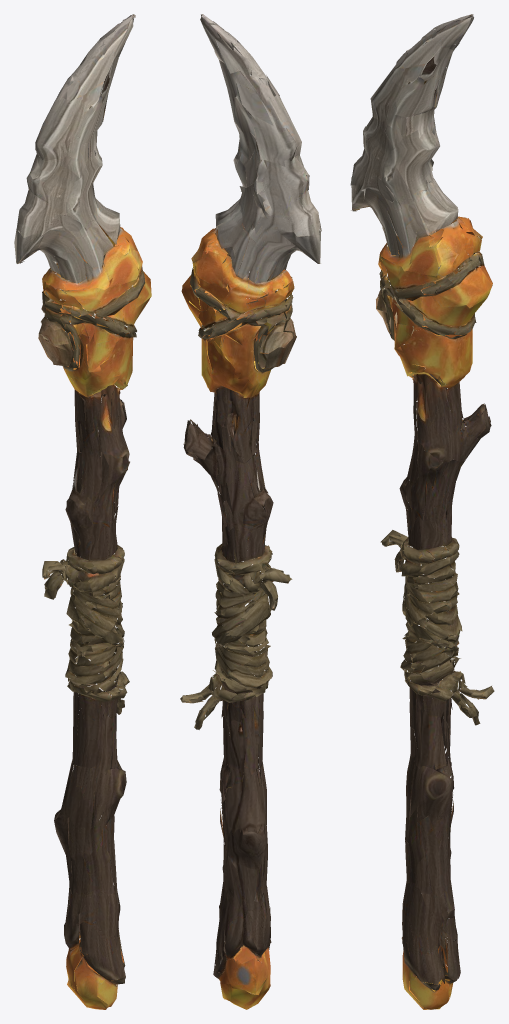
File: mizrak-XcgKBRKP.glb
3 renders of one model, left to right at view 1: azimuth 30°, elevation 25°; view 2: azimuth 150°, elevation 25°; view 3: azimuth 330°, elevation 25°, orthographic.
Parts seen in each view (by area): view 1: prop; view 2: prop; view 3: prop.
Part boxes in pixels (box(x1,y1,x2,y2)): prop: box(14, 14, 151, 1009); prop: box(180, 14, 321, 1009); prop: box(350, 14, 494, 1009).
Bounding box in the file's own units: 0.2695 × 1.9 × 0.1573.
Materials: 1 (1 with a texture image).
